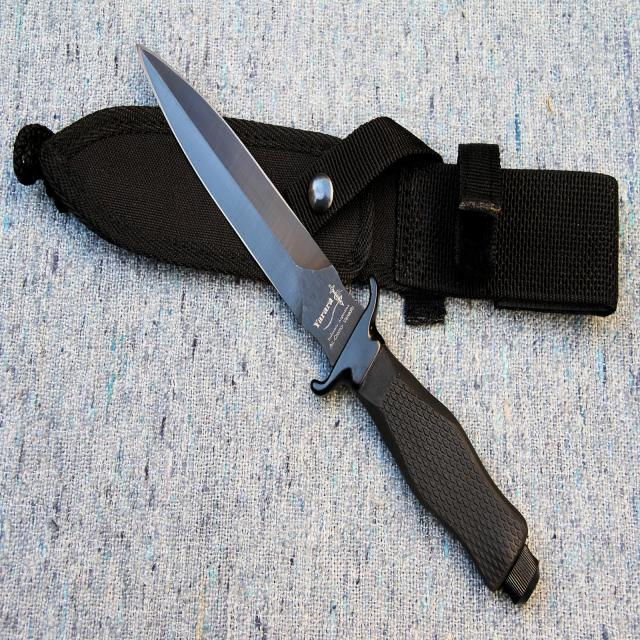knife: (136, 40, 549, 607)
